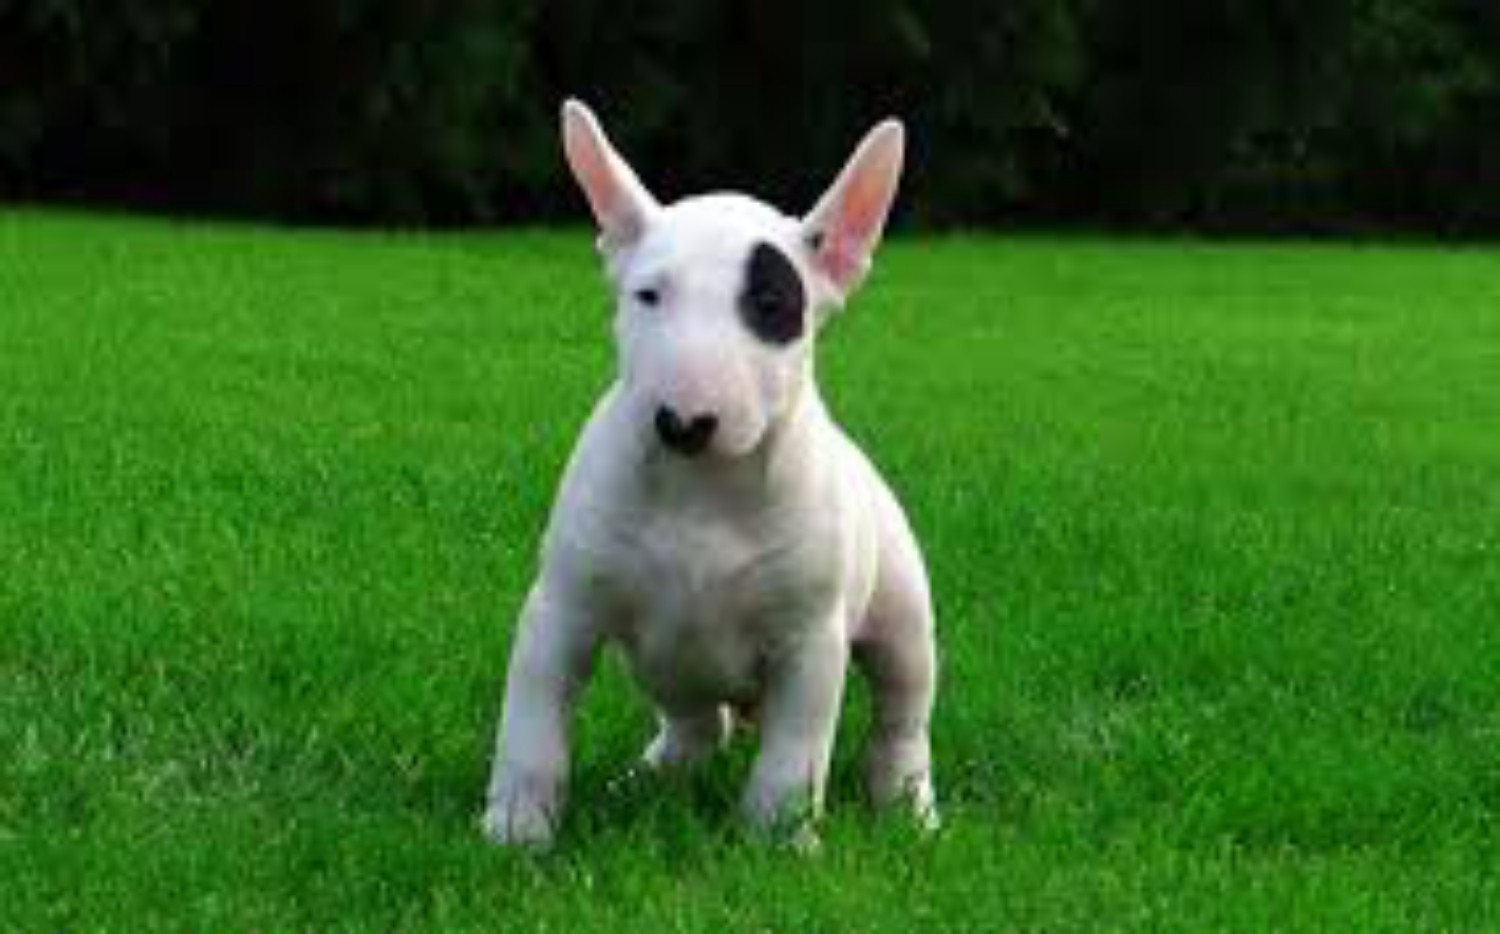bull_terrier: (479, 99, 945, 851)
